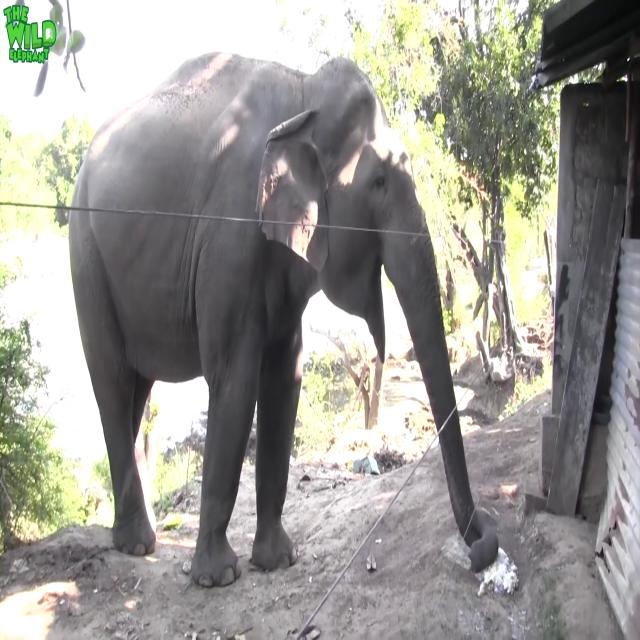Elephant: (68, 49, 499, 589)
